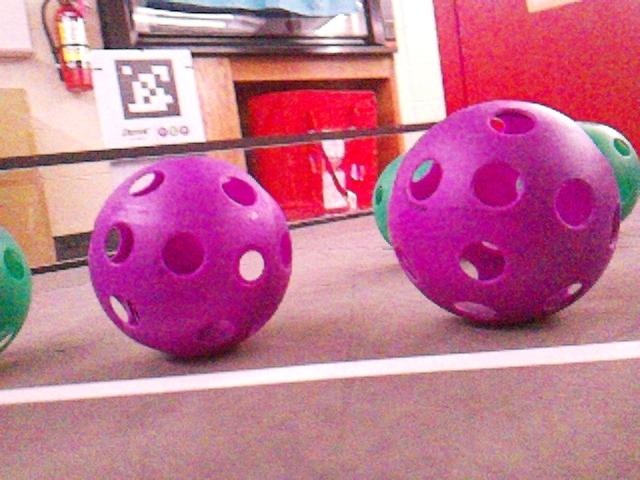Green: (583, 124, 640, 223), (0, 225, 32, 355), (371, 153, 408, 247)
Purple: (388, 102, 623, 325), (87, 157, 292, 356)
